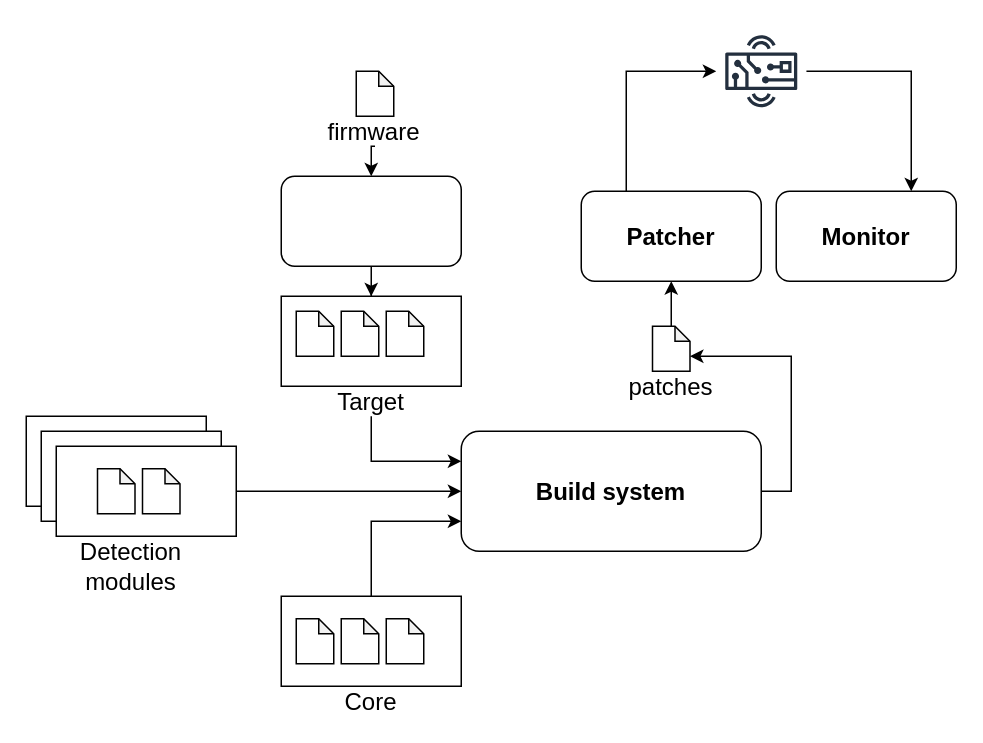
The diagram is 983 pixels wide and 743 high, and some of its shapes have lost their labels. Each missing label, with the centre of its shape:
Firmware analyzer: [370,220]
Hardware board: [760,70]
